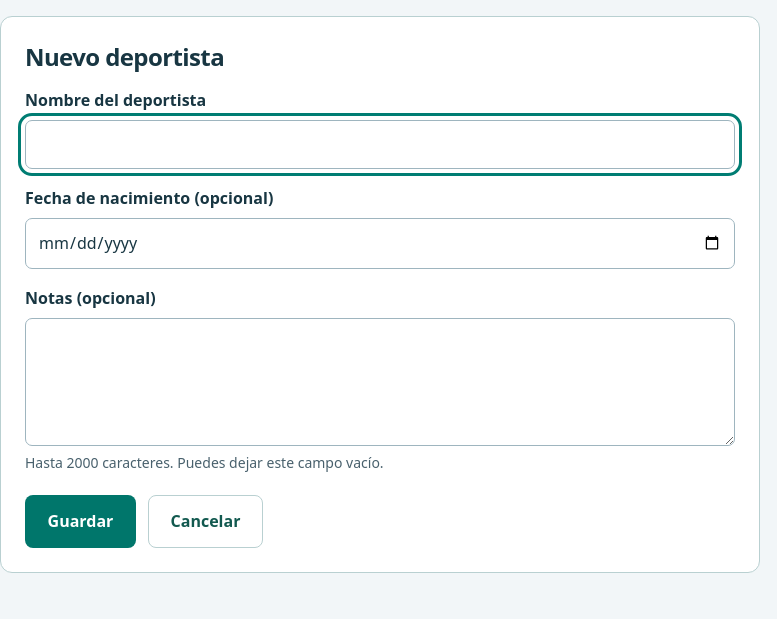
Scenario: formulario de deportista › no trata una fecha parcialmente escrita como si el usuario la hubiera dejado vacía
The image size is (777, 619).
Type "Sol Vega" into the field labelled "Nombre del deportista" at coordinates (380, 144), box x1=25 y1=120 x2=735 y2=169
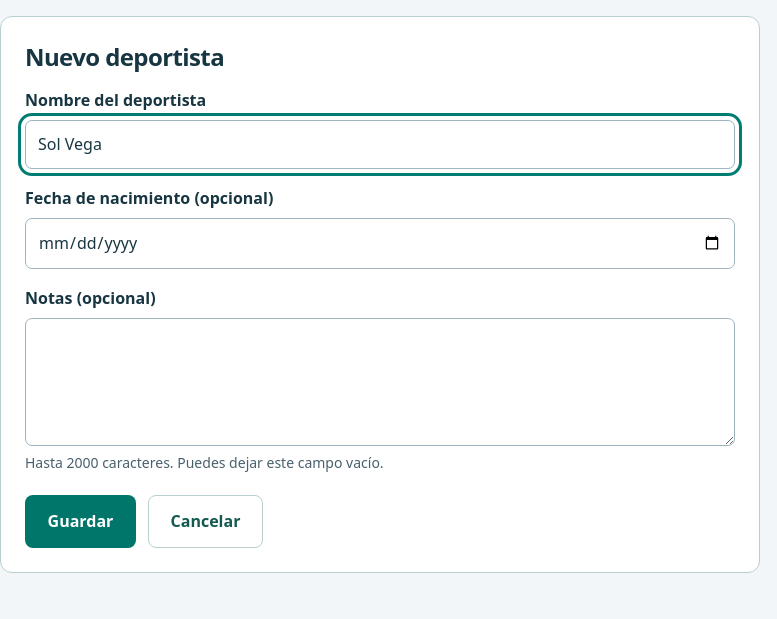
Submit the form "Nuevo deportista"
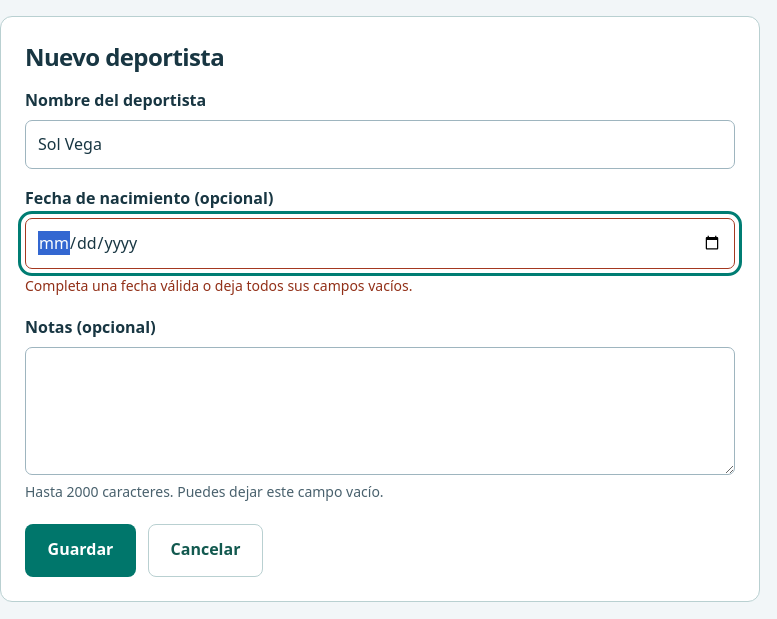
Expected: the message shows "Completa una fecha válida", x1=25 y1=276 x2=412 y2=295
